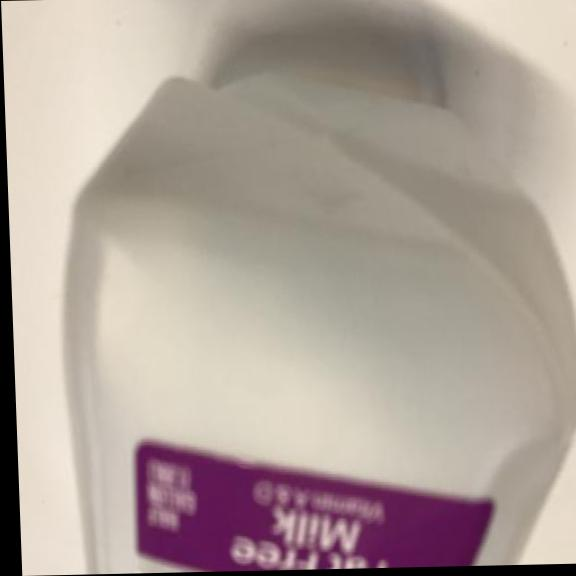Plastik: (62, 55, 576, 575)
